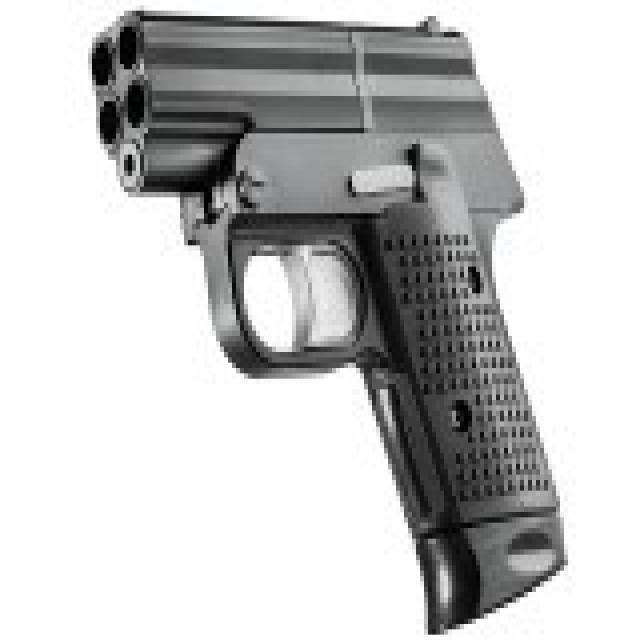Gun: (85, 6, 586, 609)
